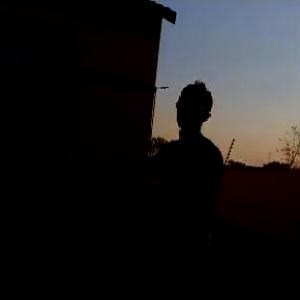follow: (102, 77, 225, 299)
